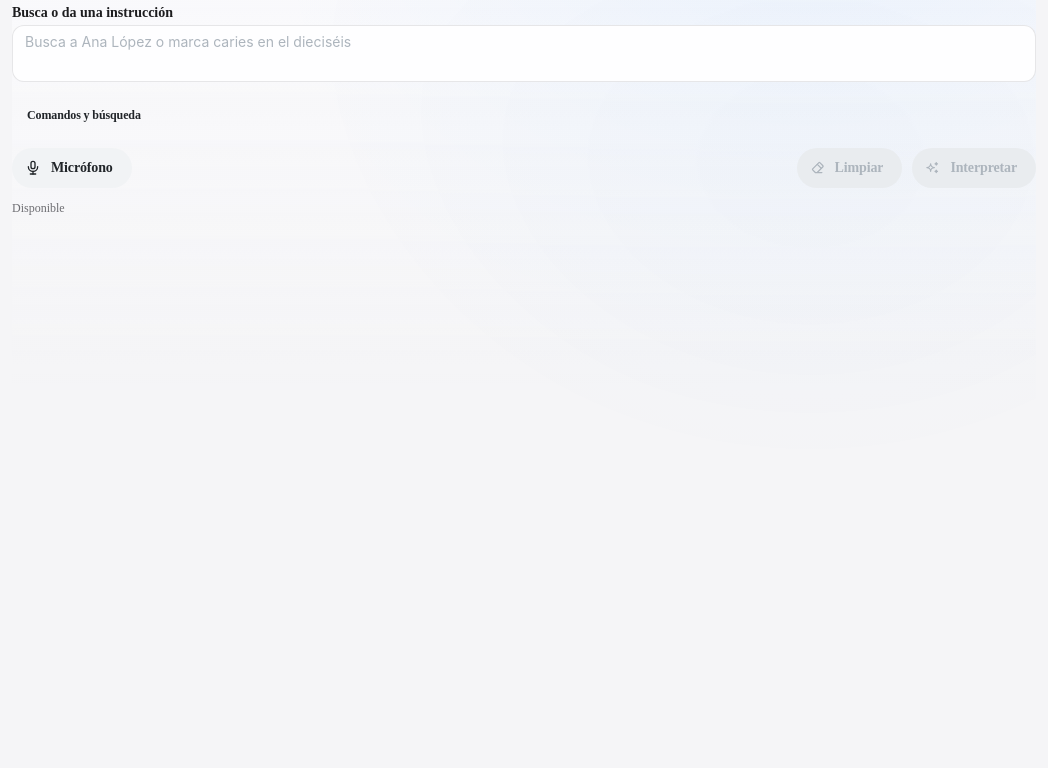
Test: VoiceCommandPanel › offers voice examples that only populate the editable command field
Click the button "Comandos y búsqueda" at [84, 115], box [12,94,156,136]
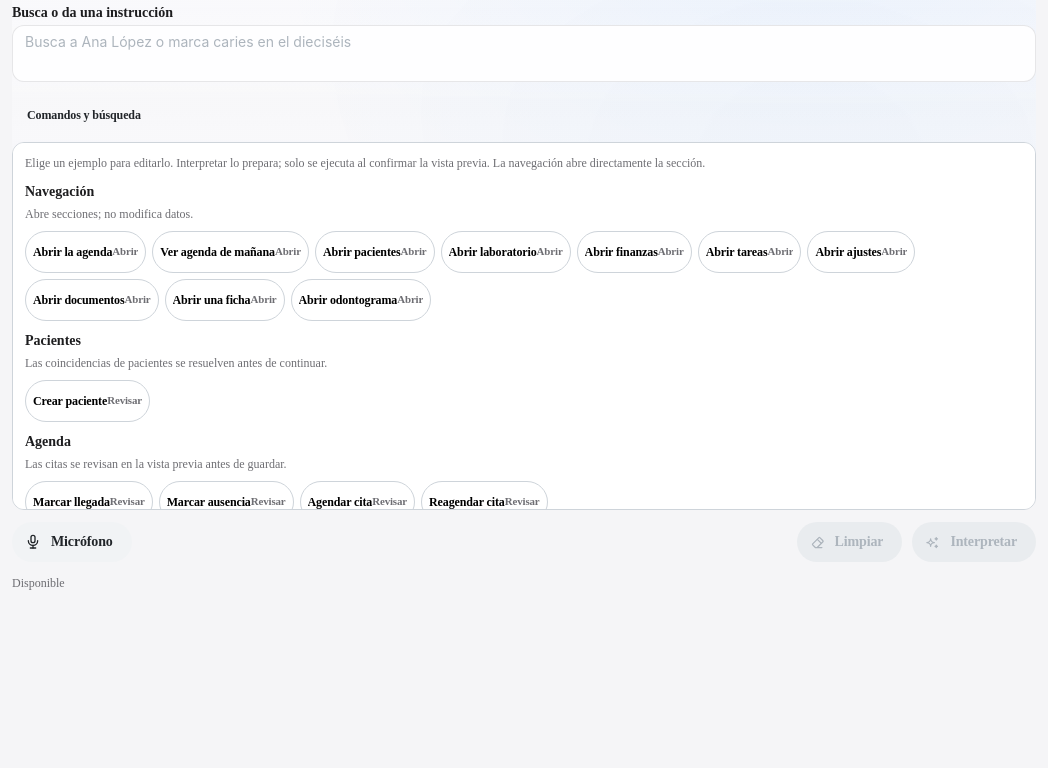
Expected: the element named "Ejemplos de comandos por área" is shown, [12,142,1036,510]
Click the button with aria-label "Abre la agenda" at [86, 252], box [25,231,146,273]
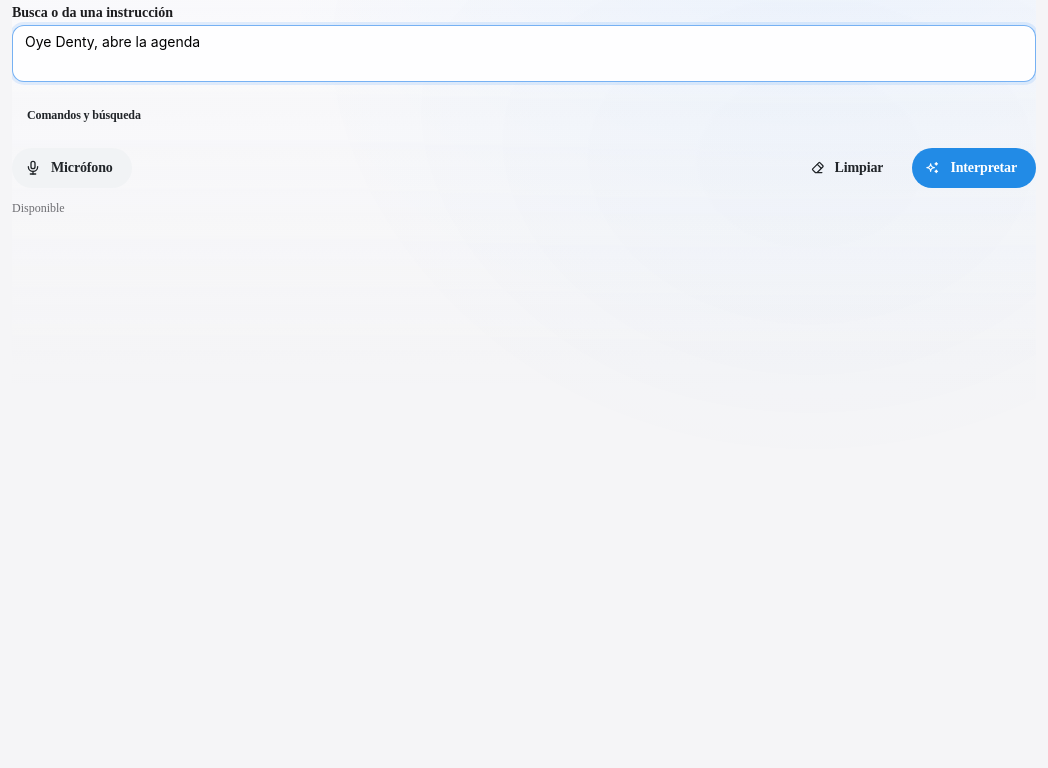
Expected: the text box labelled "Busca o da una instrucción" holds "Oye Denty, abre la agenda", [12,25,1036,82]
